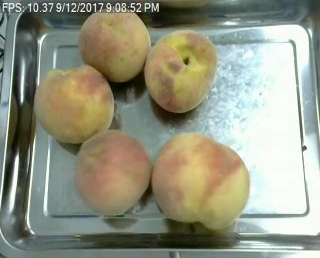Peach: (152, 132, 249, 231), (74, 130, 152, 216), (34, 66, 115, 143), (143, 29, 217, 113), (78, 5, 150, 82)
